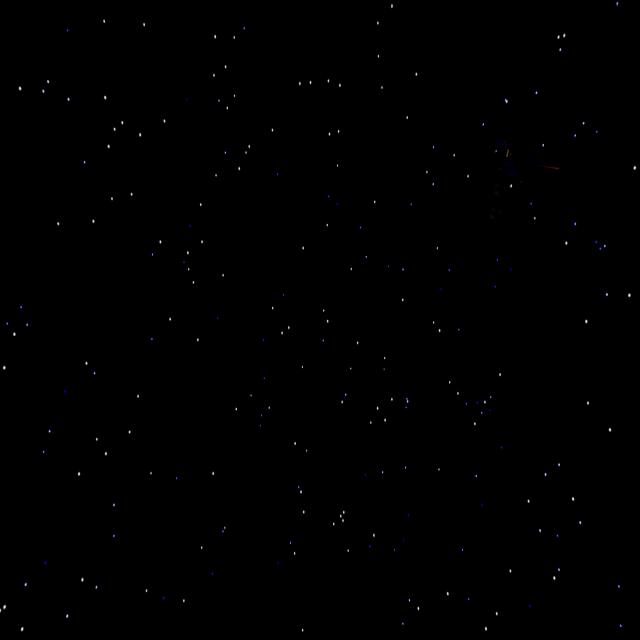satellite: (462, 132, 567, 239)
